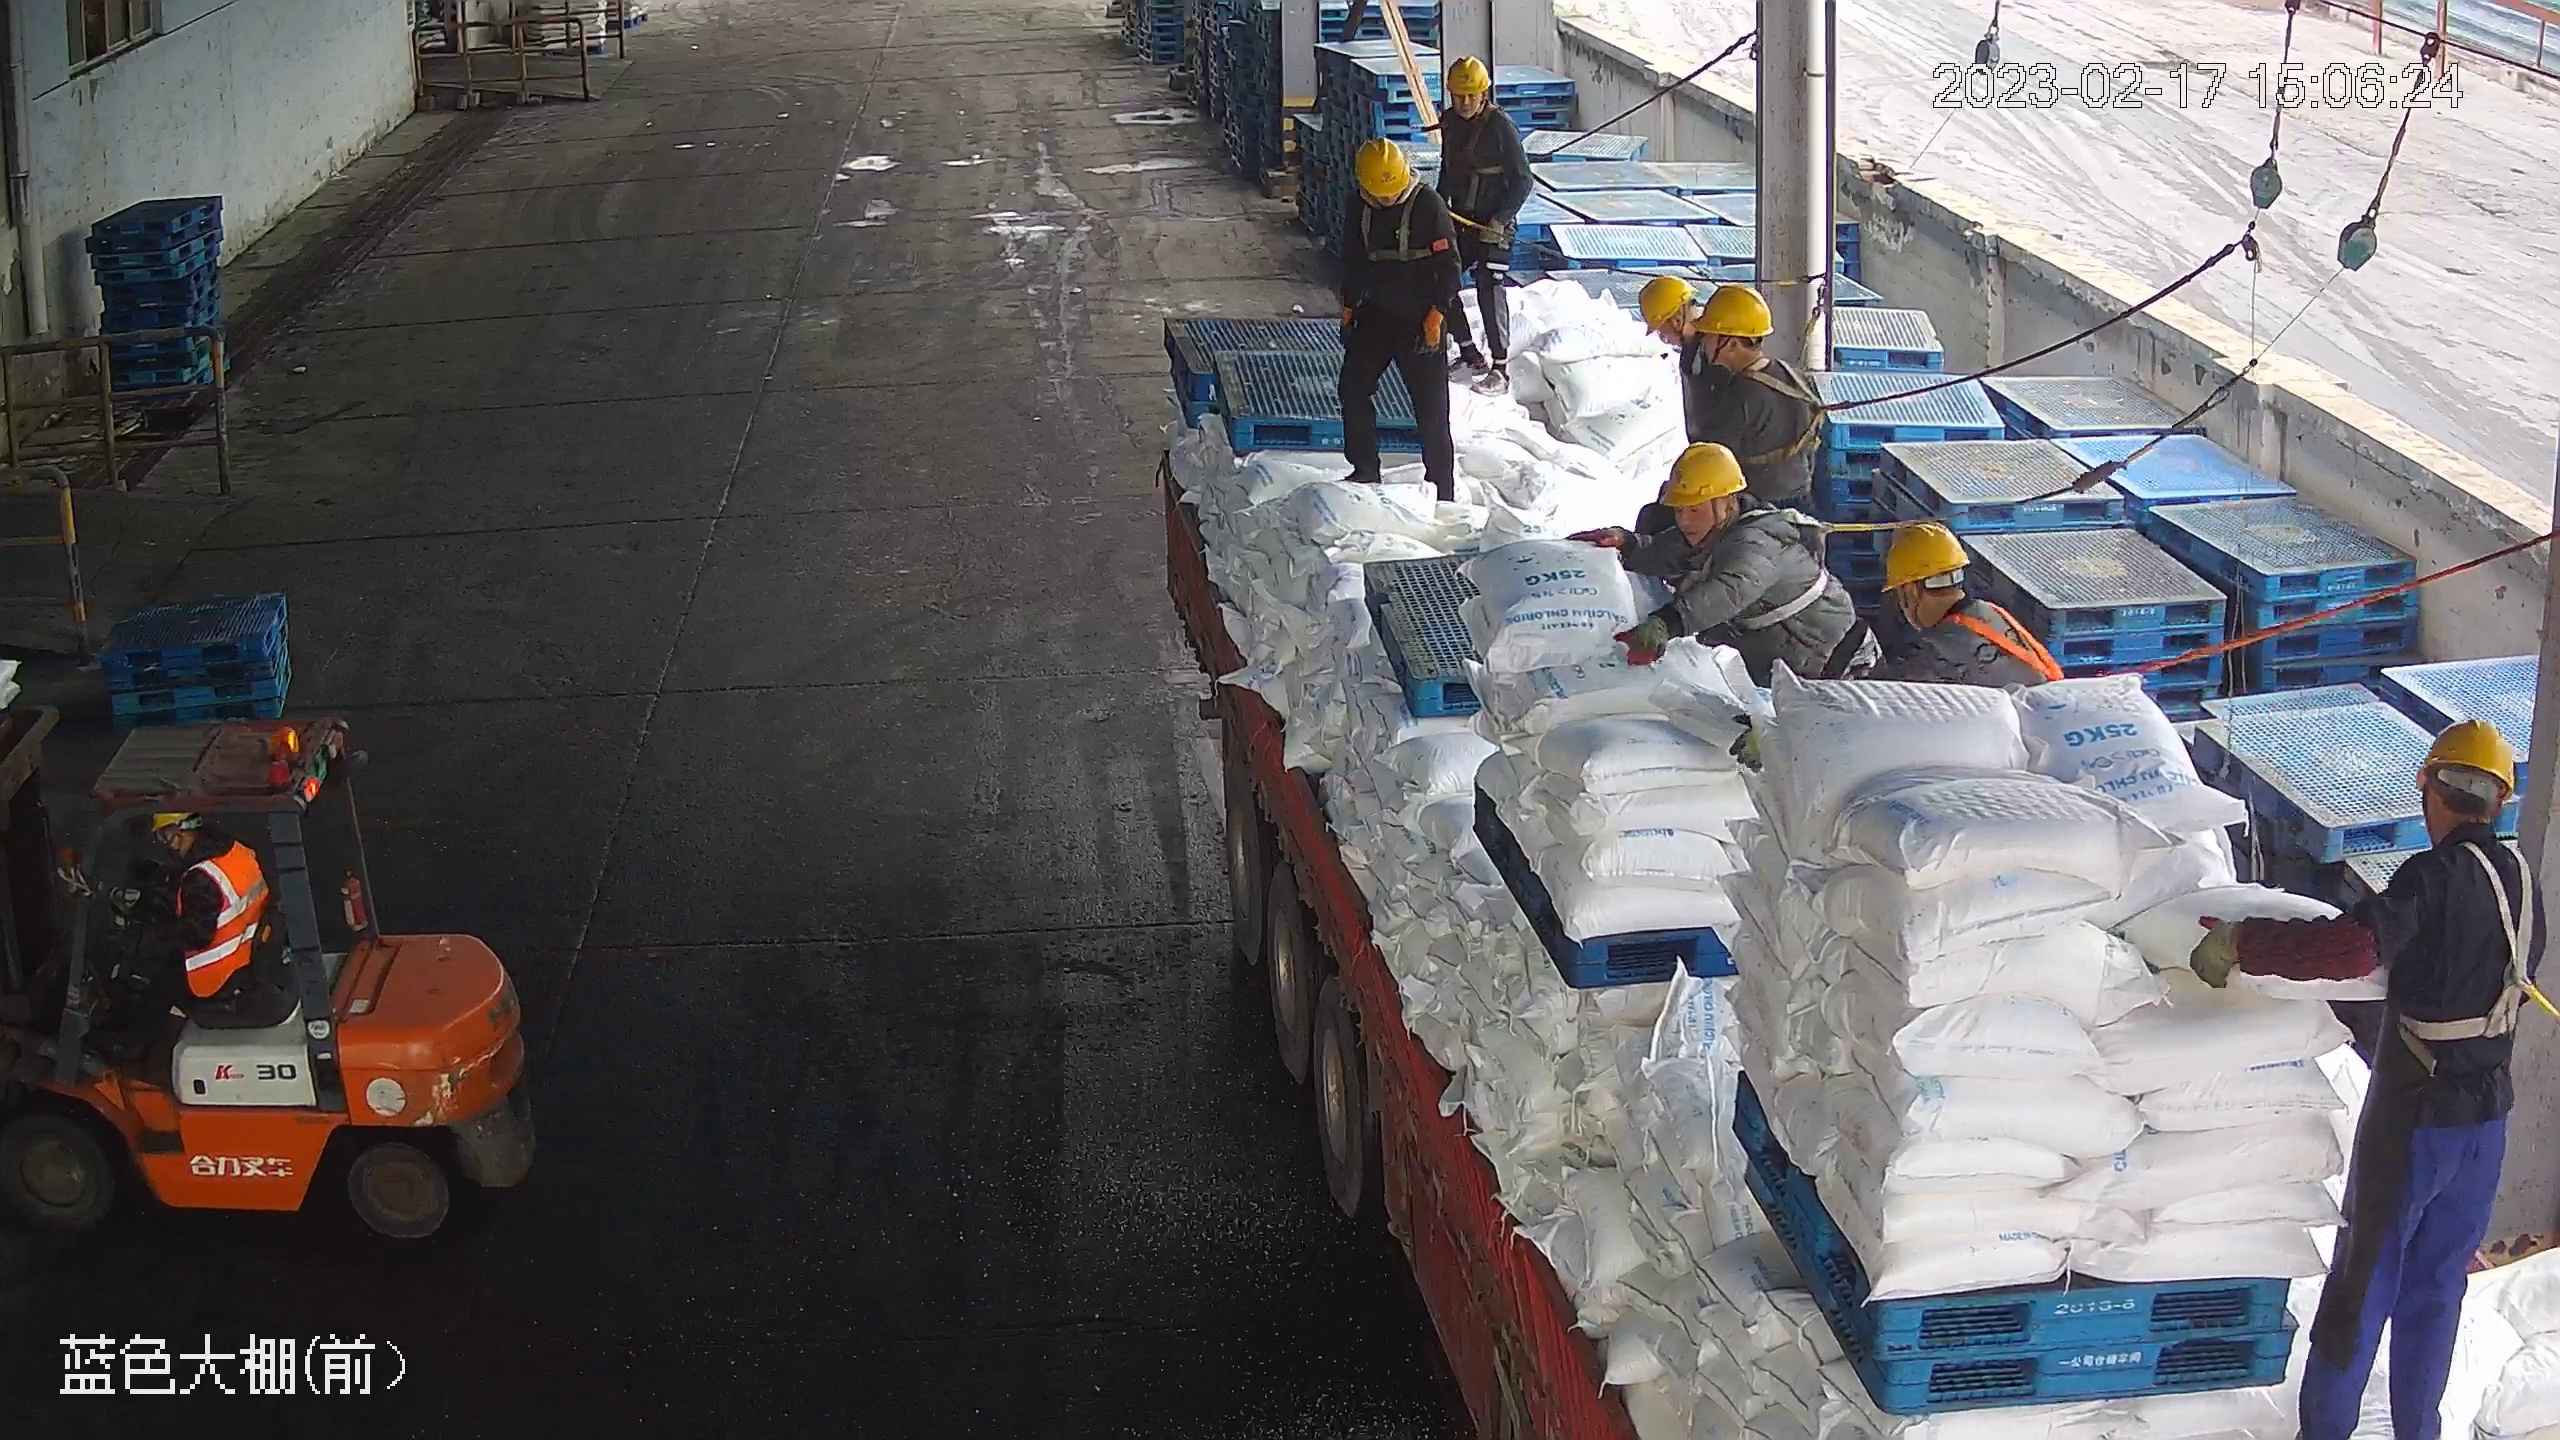belt: (2384, 840, 2555, 1045), (1698, 503, 1852, 630), (1733, 355, 1845, 469), (1953, 600, 2073, 686), (1348, 179, 1443, 262), (1449, 105, 1519, 174)
head: (2348, 712, 2541, 945), (1865, 520, 2036, 681), (1641, 438, 1806, 597), (1678, 283, 1810, 430), (1438, 57, 1522, 149)
helmet: (2416, 716, 2516, 804), (1879, 519, 1969, 590), (1655, 440, 1747, 509), (1697, 282, 1775, 337), (1353, 135, 1411, 197), (1636, 275, 1698, 327), (1445, 56, 1491, 94)
people: (2181, 716, 2548, 1431), (1587, 448, 1839, 718), (1323, 136, 1476, 500), (96, 809, 267, 1052), (1437, 52, 1528, 381)
truck: (1160, 361, 2547, 1440)
